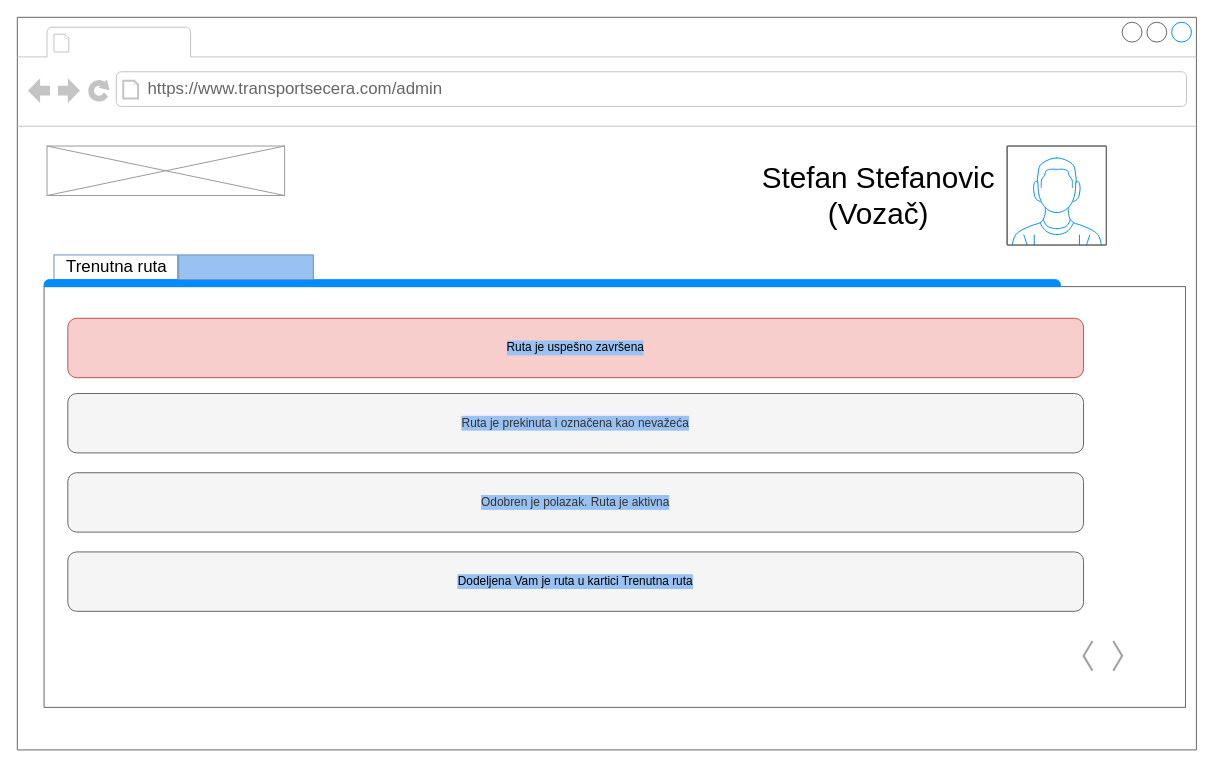
The diagram is 1214 pixels wide and 767 high, and some of its shapes have lost their labels. Each missing label, with the box of its shape:
LOGO: (46, 145, 285, 196)
Obaveštenja: (178, 254, 313, 280)
Transport šećera: (76, 26, 186, 57)
